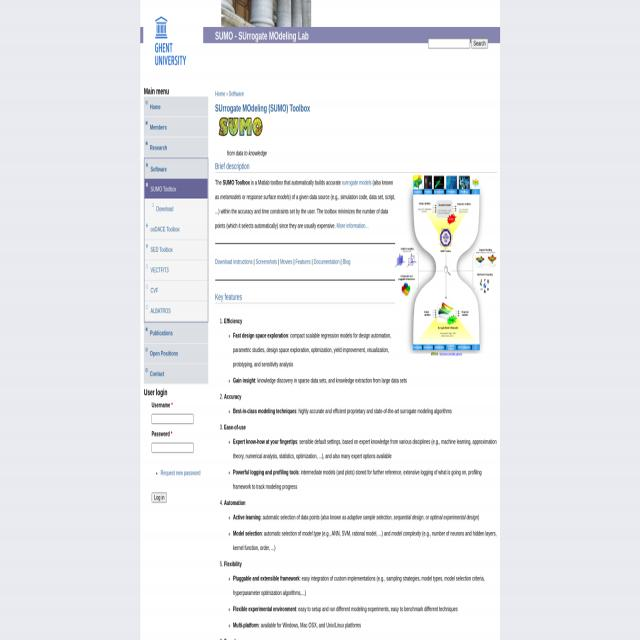button: (395, 175, 497, 356), (143, 0, 203, 86), (215, 117, 263, 138)
field: (428, 38, 470, 48), (152, 414, 194, 424), (152, 443, 194, 453), (471, 38, 488, 48), (151, 492, 167, 502)
